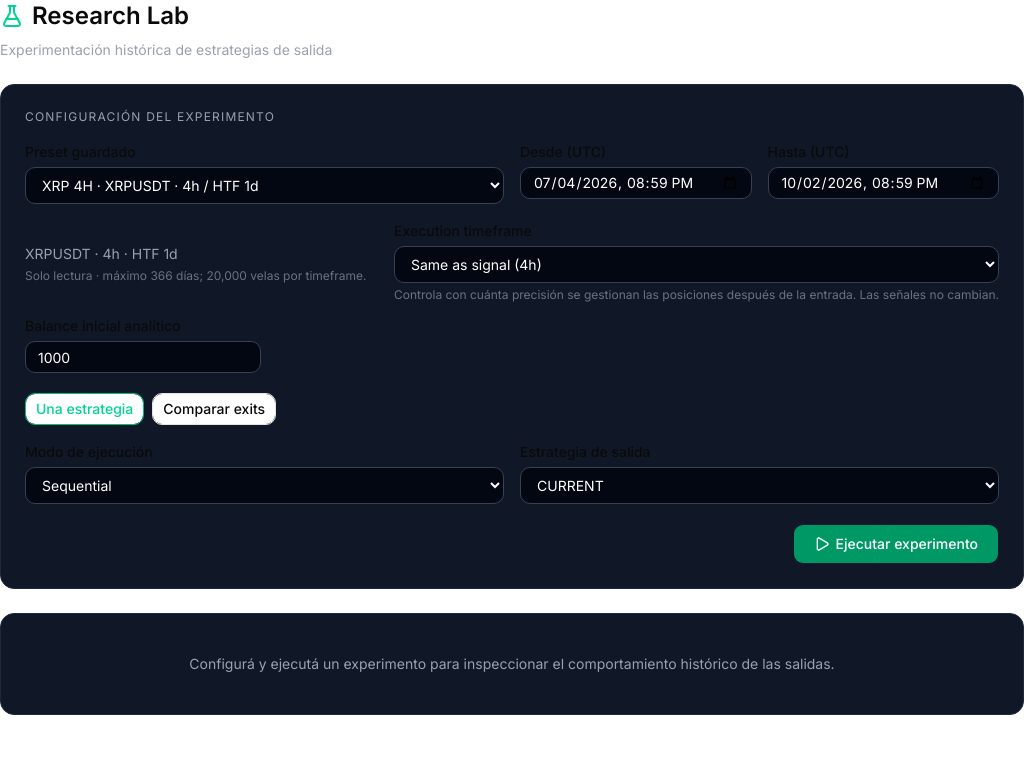
Test: Research Lab › refreshes excursion after changing dates and comparing again
Check: the dropdown labelled "Preset guardado" is shown, box x1=25 y1=167 x2=504 y2=204
Click the button "Comparar exits" at coordinates (214, 409), box x1=152 y1=393 x2=276 y2=425
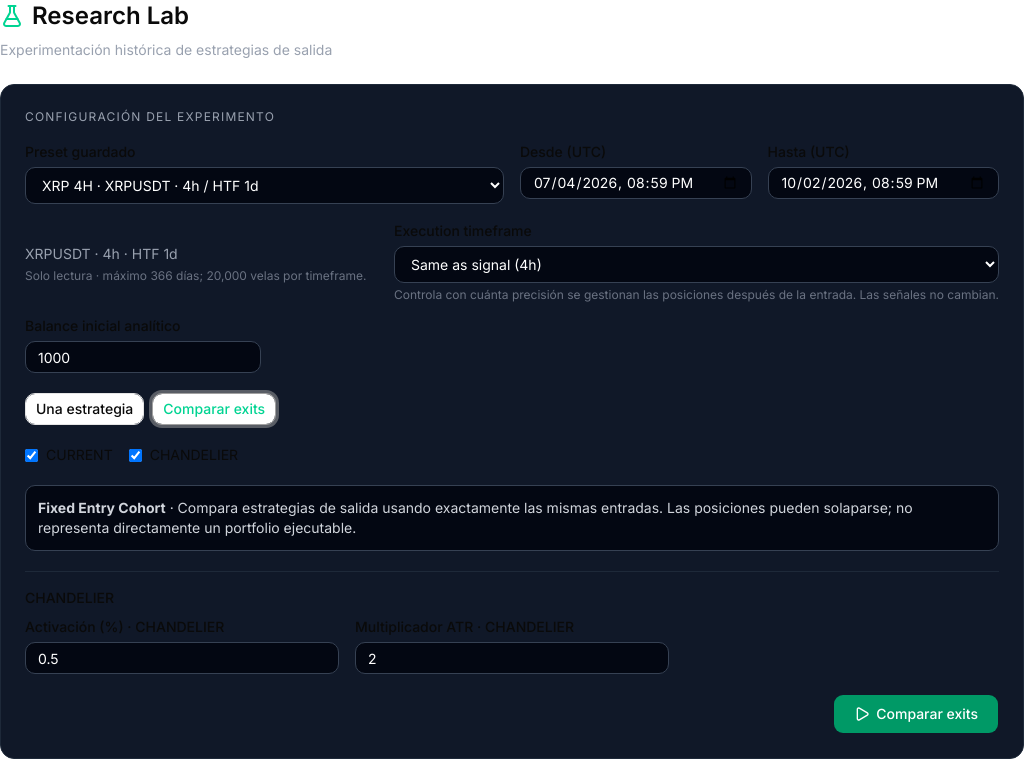
Click the 2nd button "Comparar exits" at coordinates (916, 714), box x1=833 y1=694 x2=999 y2=734
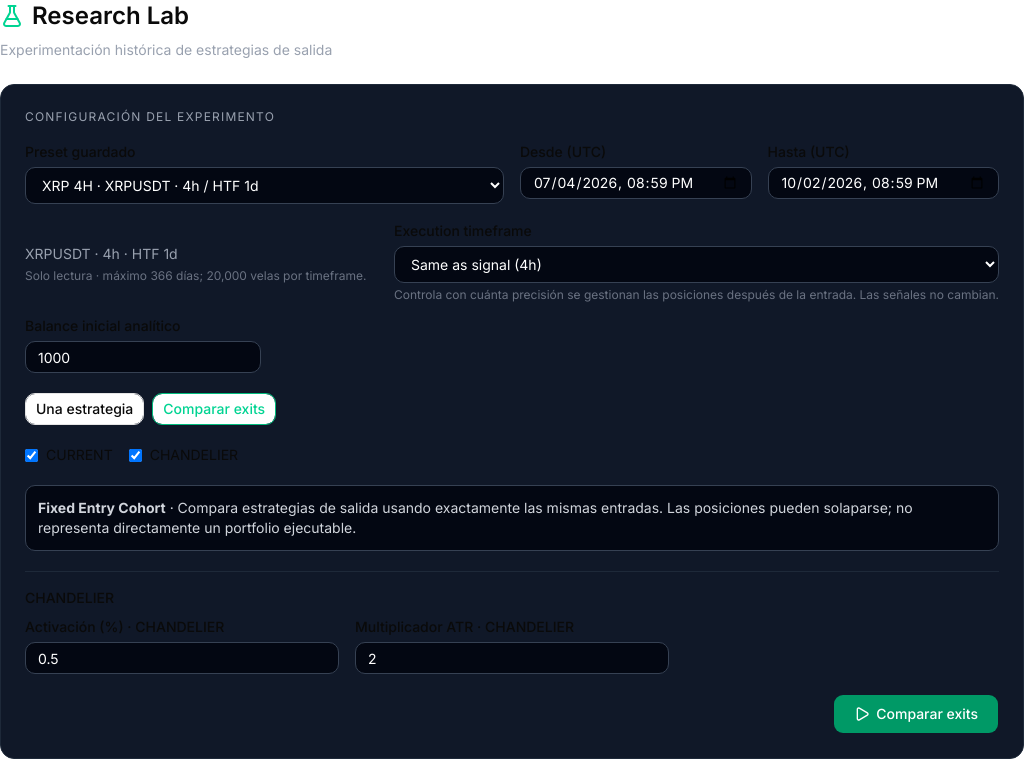
Replace the text in the field labelled "Desde (UTC)" with "2026-08-01T00:00" at coordinates (636, 183), box x1=520 y1=167 x2=752 y2=199
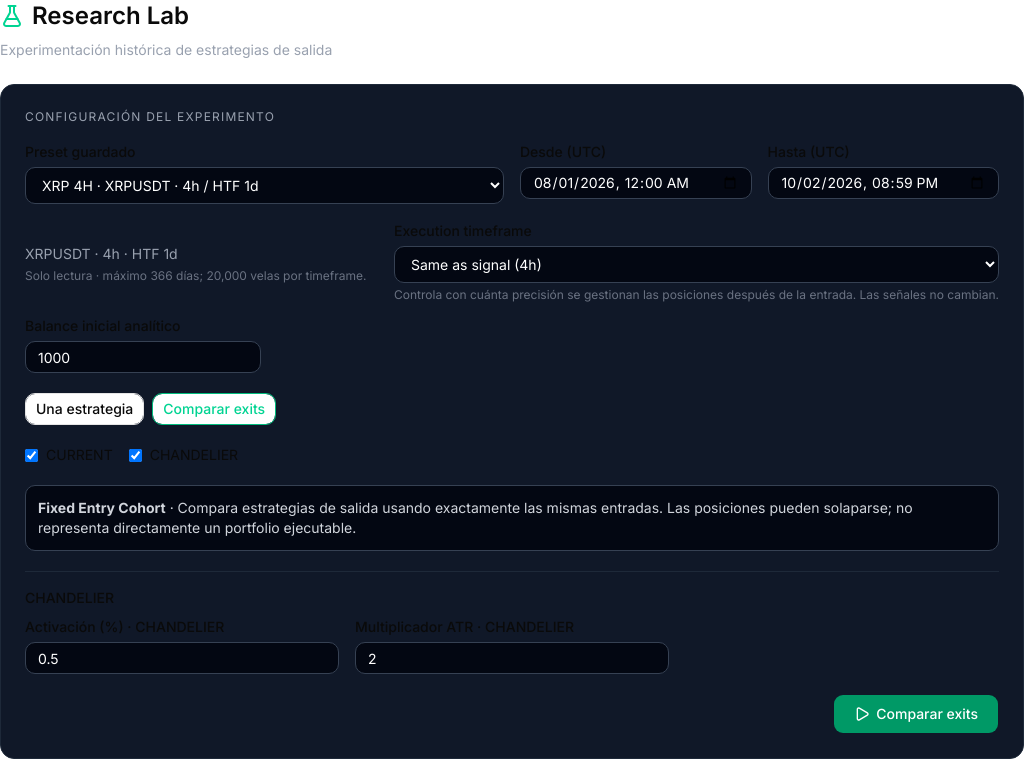
Replace the text in the field labelled "Hasta (UTC)" with "2026-09-01T00:00" at coordinates (883, 183), box x1=768 y1=167 x2=999 y2=199
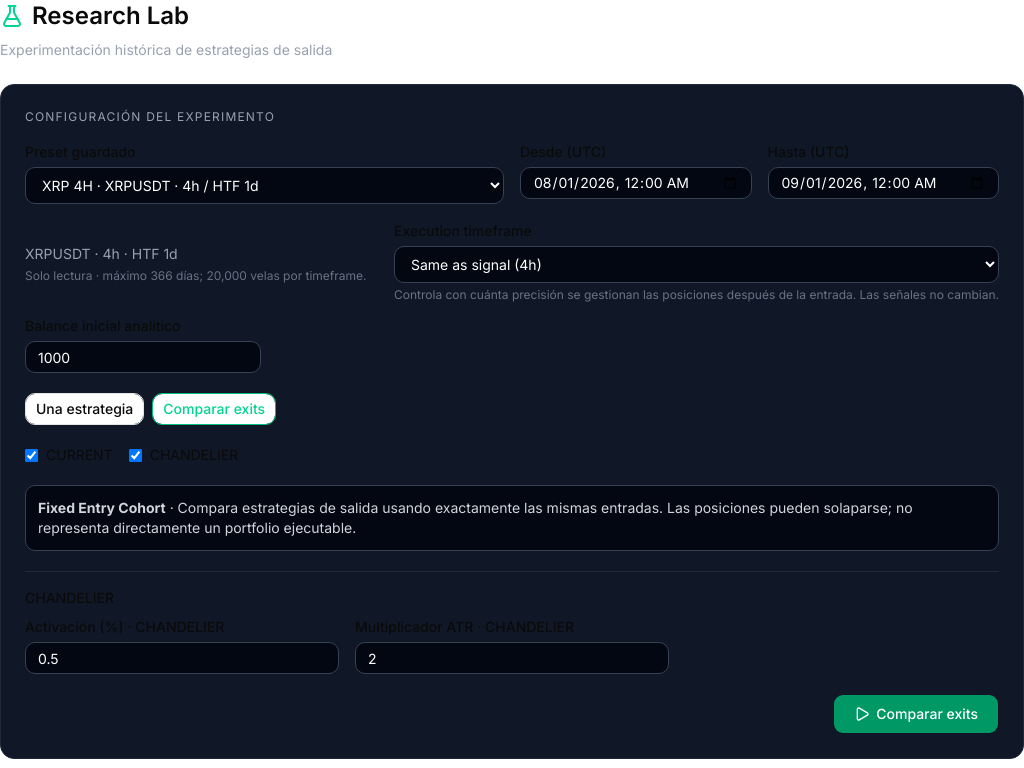
Click the 2nd button "Comparar exits" at coordinates (916, 714), box x1=833 y1=694 x2=999 y2=734
(page scrolled)
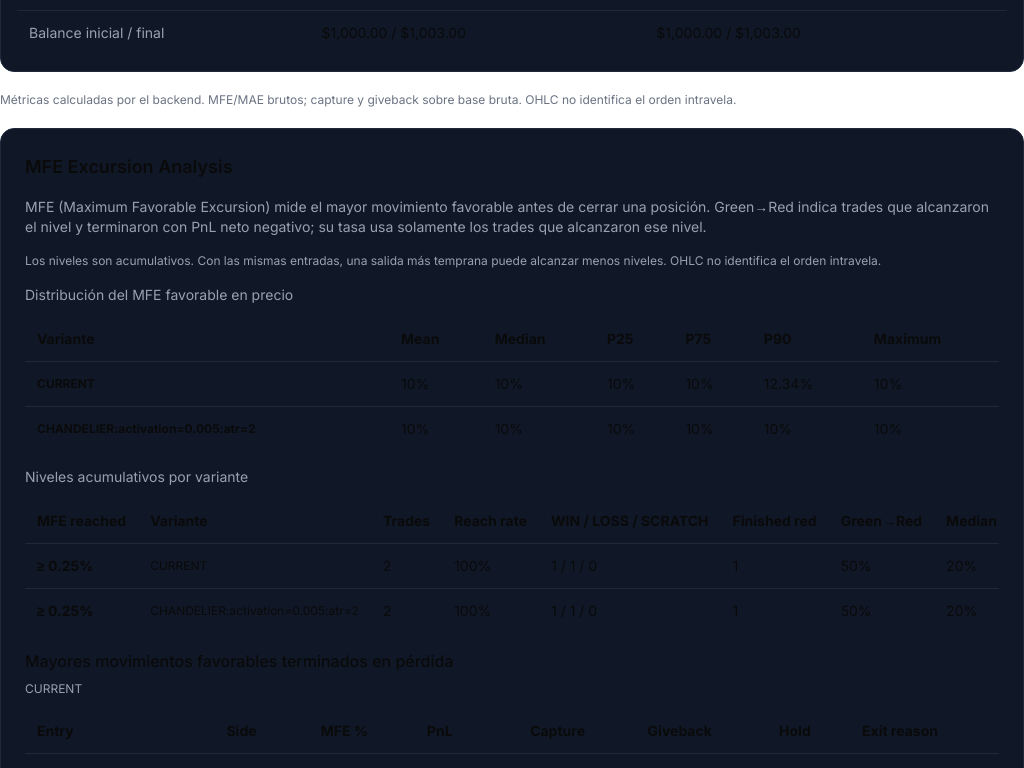
Check: the text "12.34%" is shown, box x1=752 y1=362 x2=862 y2=406
